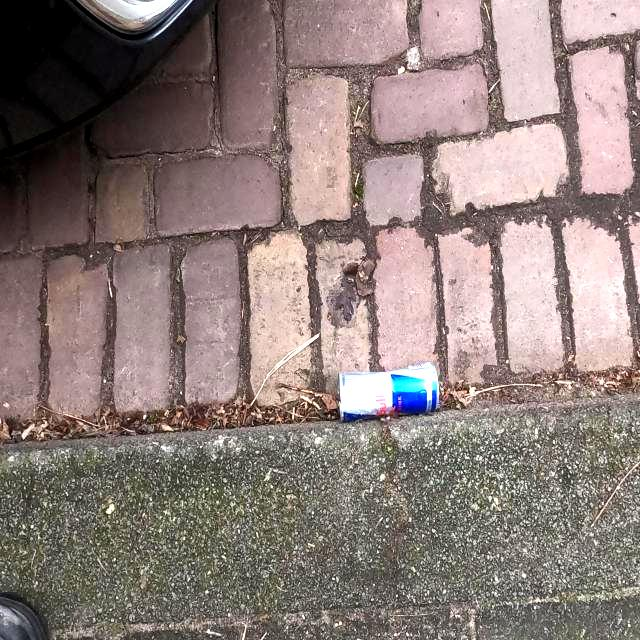Metal: (336, 350, 448, 438)
